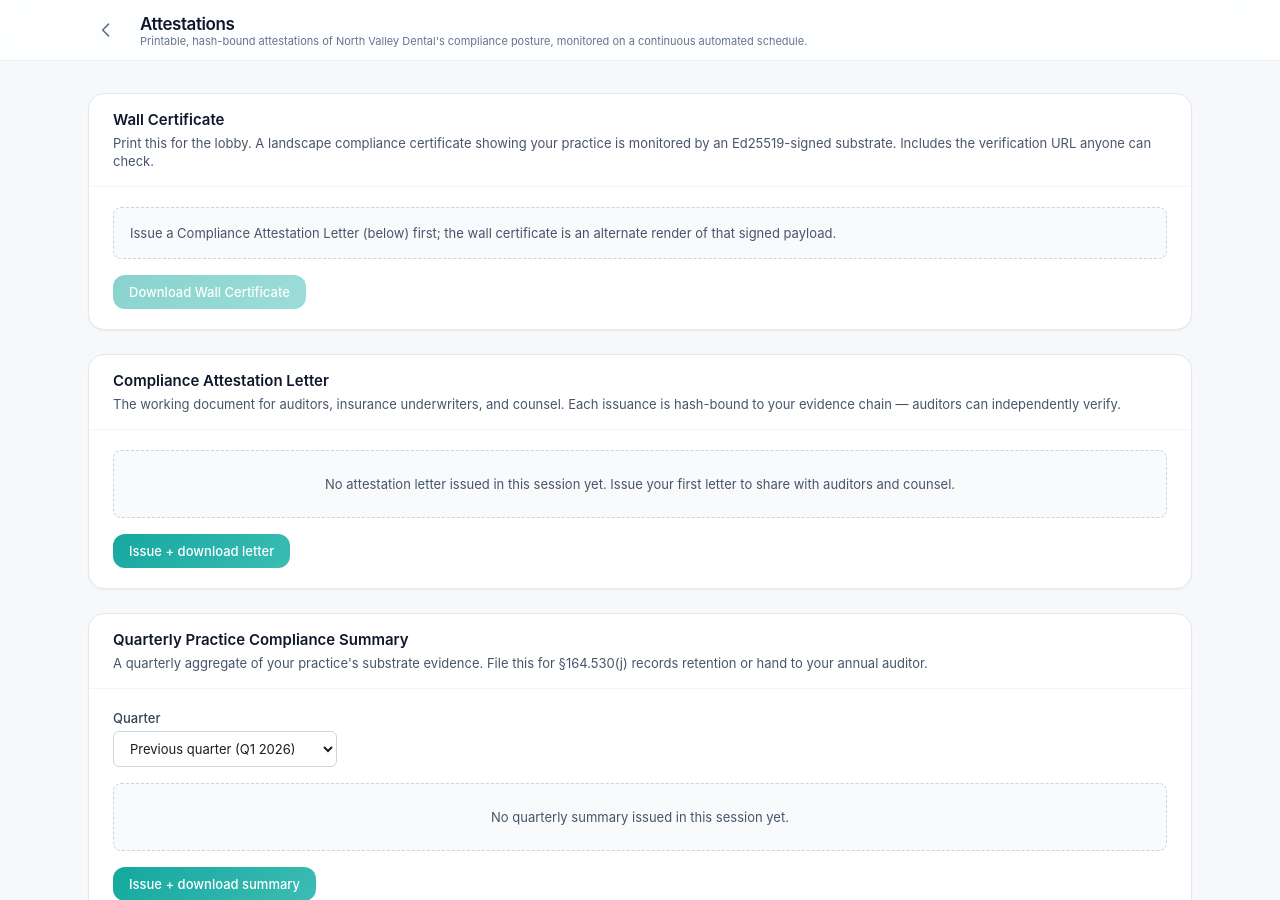
Test: ClientAttestations › F1 429 surfaces rate-limit toast with retry-after minutes
Click the button with aria-label "Issue and download Compliance Attestation Letter".
click(202, 551)  # box [113,534,290,568]
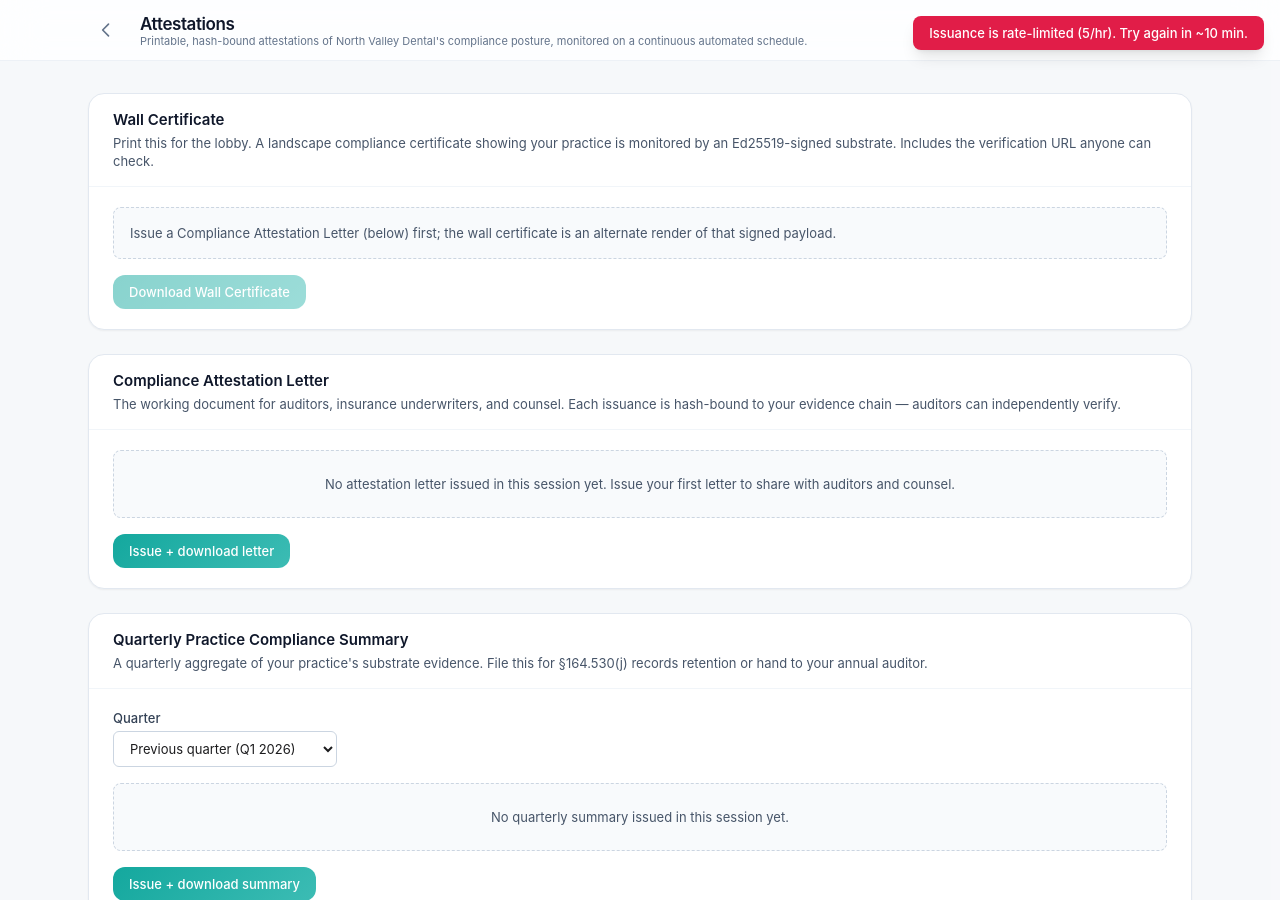
Expected: the text "Issuance is rate-limited (5/hr). Try again in ~10 min." is shown, [913,16,1264,50]
